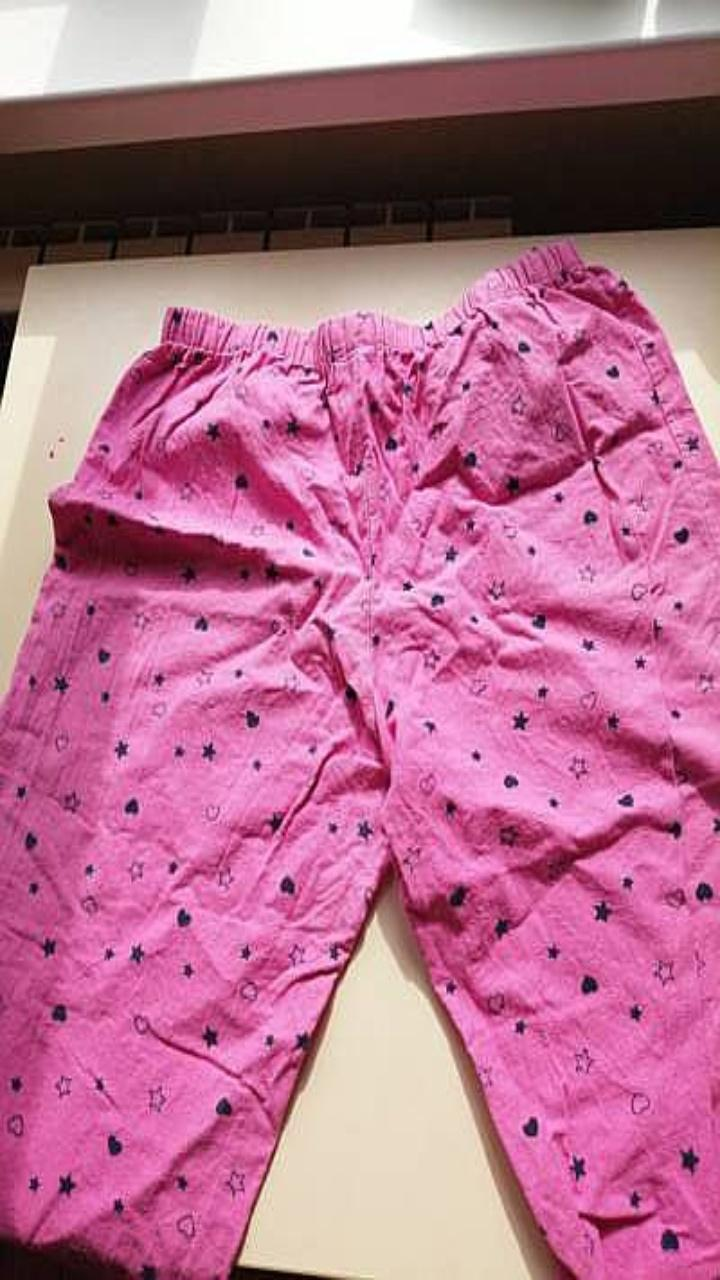Shorts: (0, 239, 719, 1279)
